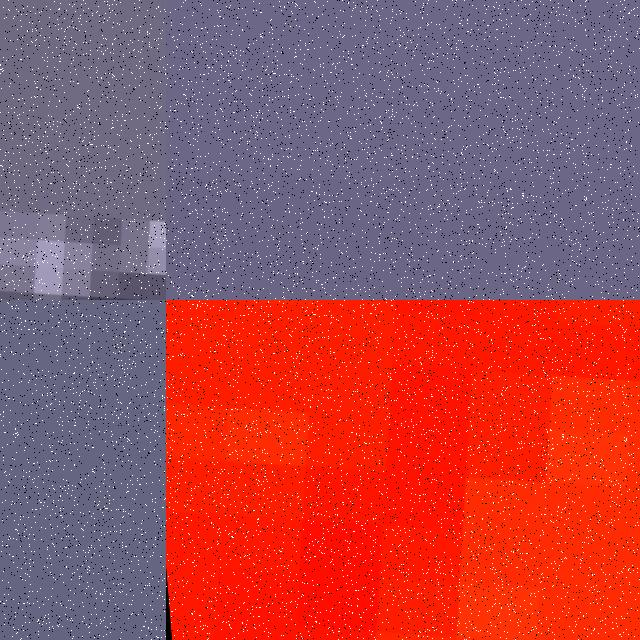drone: (166, 300, 640, 640), (0, 0, 166, 300)
